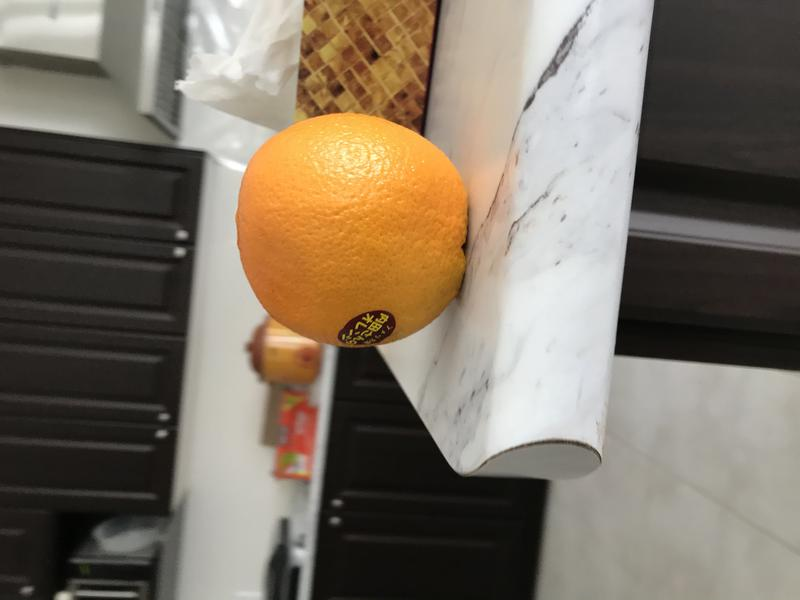orange: (220, 109, 482, 354)
